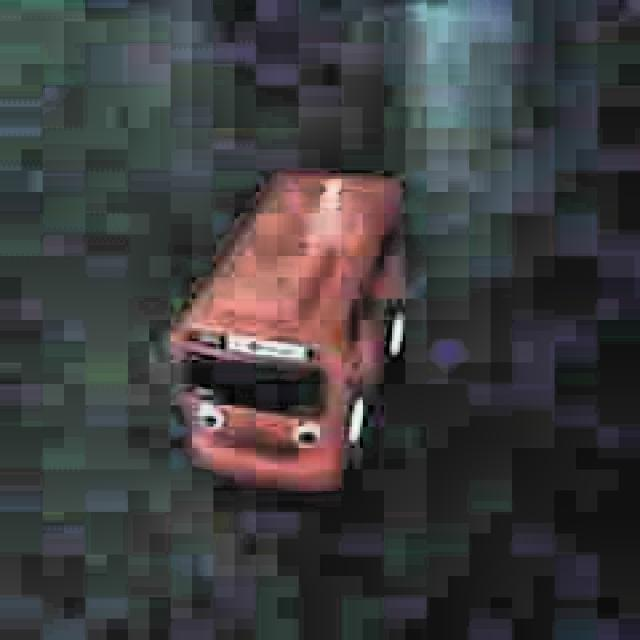bus: (150, 155, 422, 515)
